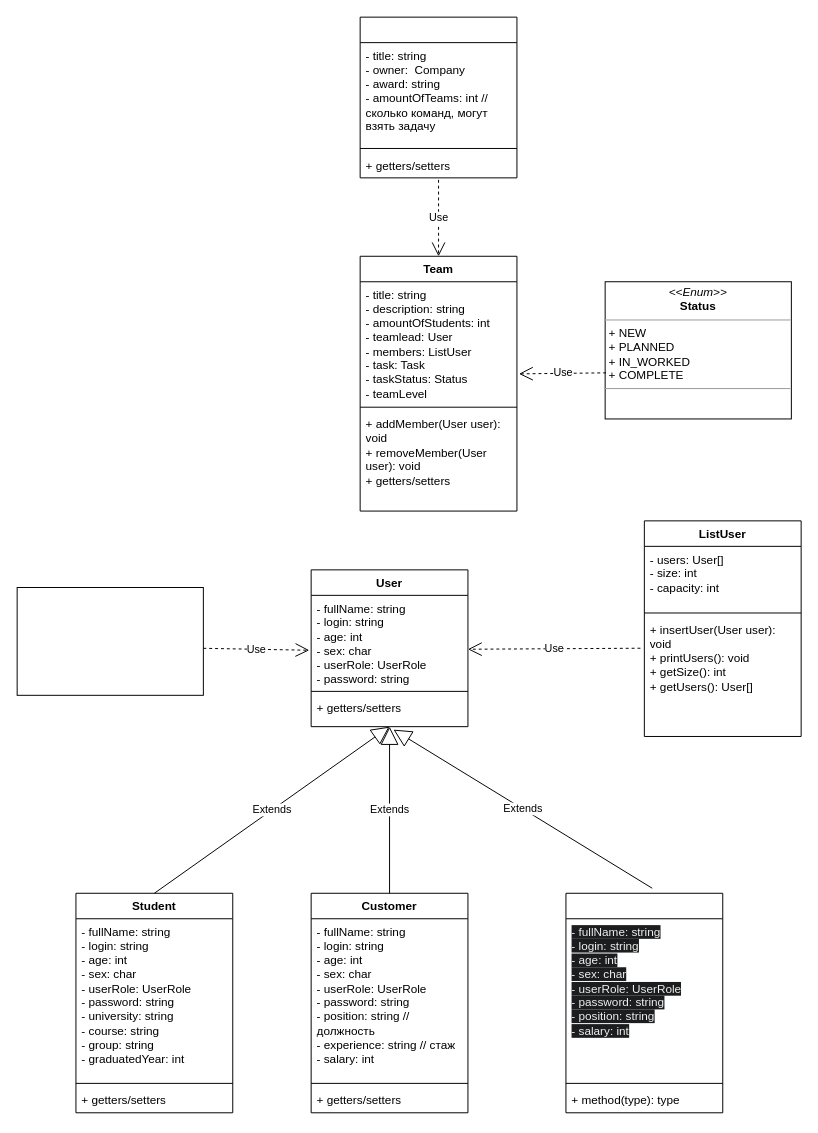
Some shapes in this 818 by 1133 pixel diagram are drawn without their labels. The shapes that lost their labels are listed below. From the top down, each one's box as (x1, y1, x2, y2) in pixels, then its label:
(359, 16, 517, 178): Task
(16, 587, 203, 695): <<Enum>> UserRole + STUDENT + COMPANY + TEAMLEAD + ADMIN
(565, 892, 723, 1113): Admin
